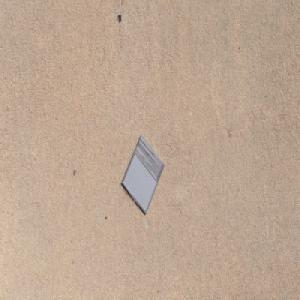PlasticPart: (121, 134, 165, 215)
